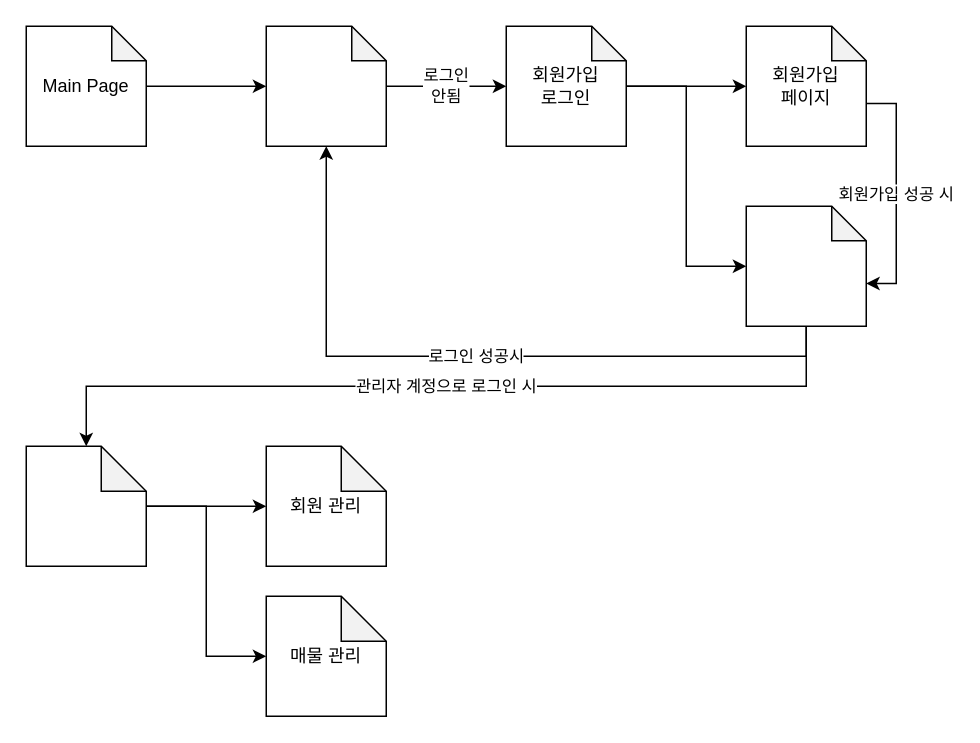
The diagram is 980 pixels wide and 743 high, and some of its shapes have lost their labels. The box of each missing label's shape, as (x1, y1, x2, y2) in pixels:
Admin Page: (25, 445, 146, 566)
로그인 페이지: (745, 205, 866, 326)
매물 보기: (265, 25, 386, 146)
